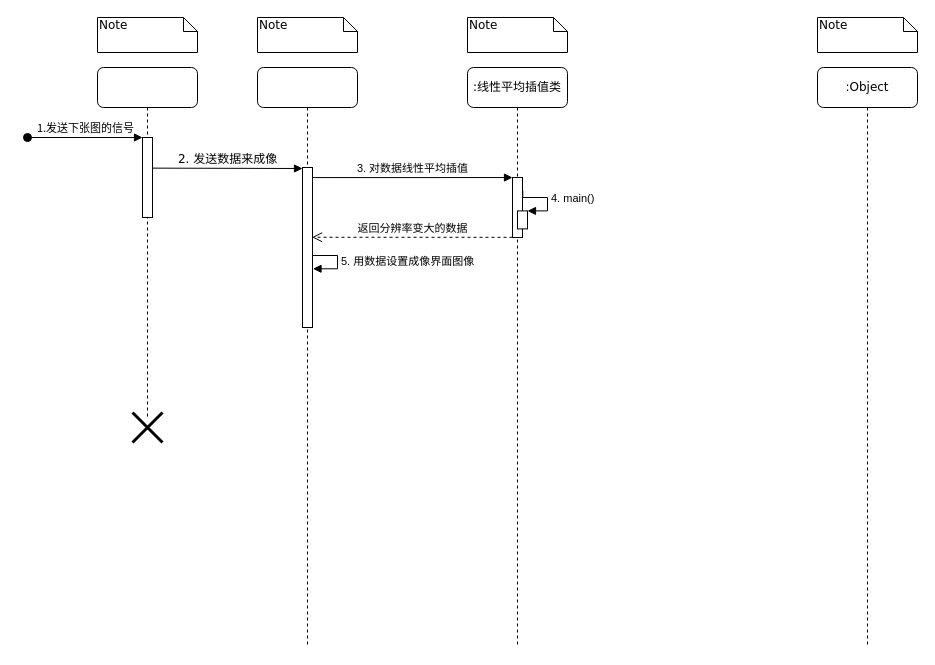
Image size: 935x665. Some labels were removed from this diagram. Here are the shapes that lost their labels. From the top down, the centre of each, then its label:
At pixel 147 242: ":IO".
At pixel 307 357: ":成像界面".
